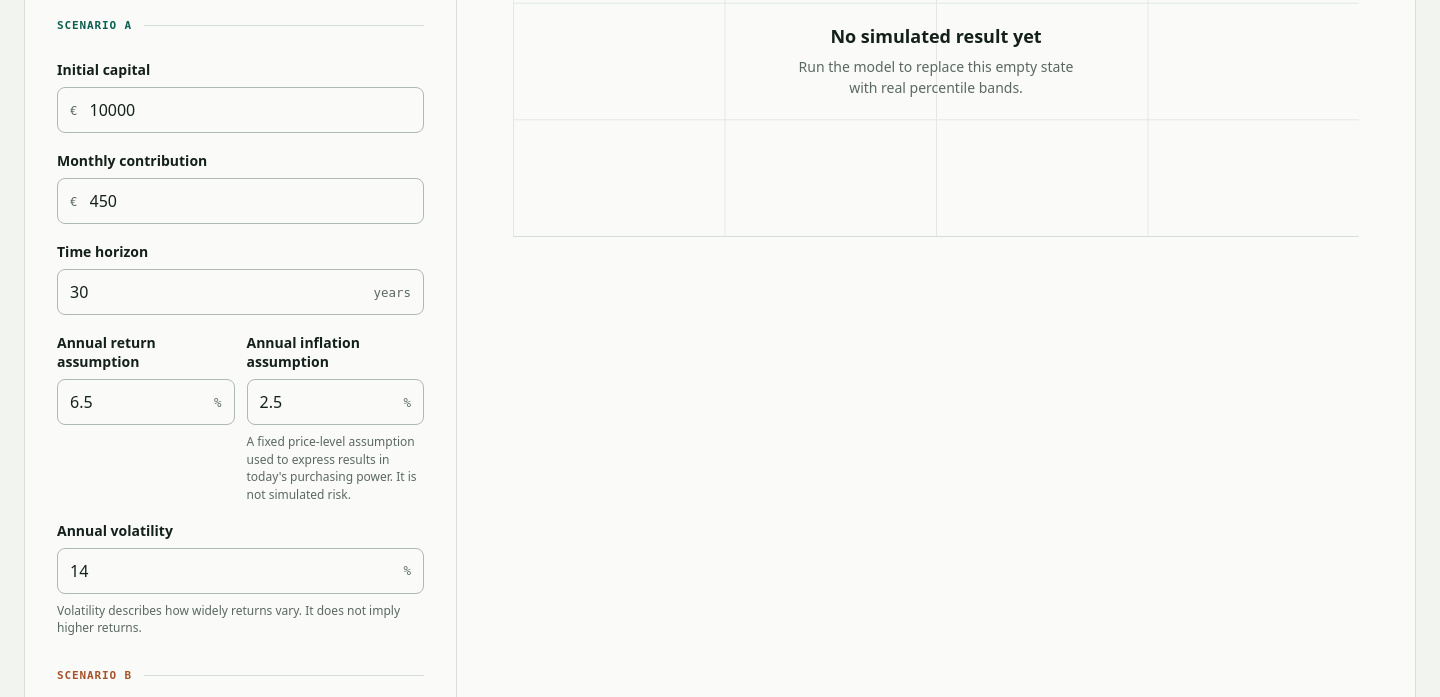
MarketSim simulation workspace › attributes a Scenario B execution failure after Scenario A succeeds
(page scrolled)
Replace the text in the number field labelled "Time horizon" with "1". click: coordinates (210, 292)
box: [58,270,362,314]
(page scrolled)
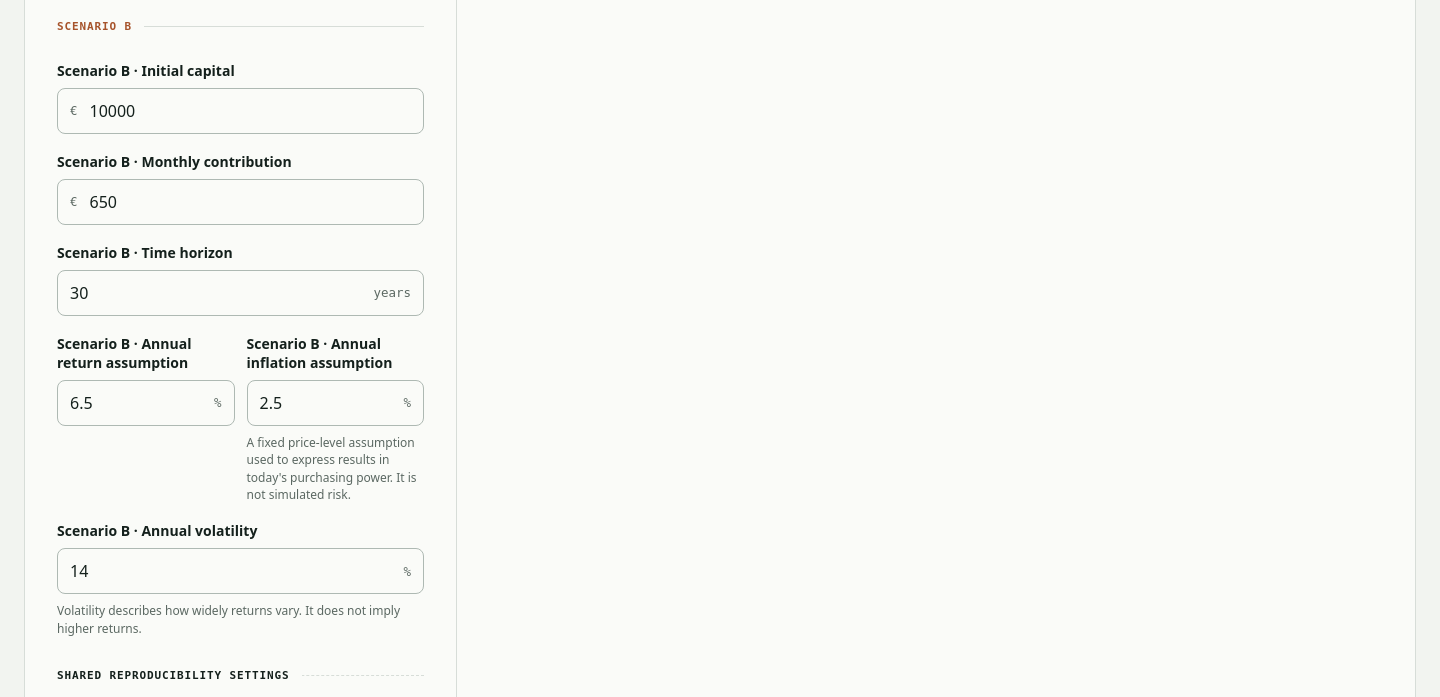
Replace the text in the number field labelled "Scenario B · Time horizon" with "1". click: coordinates (210, 293)
box: [58,271,362,315]
(page scrolled)
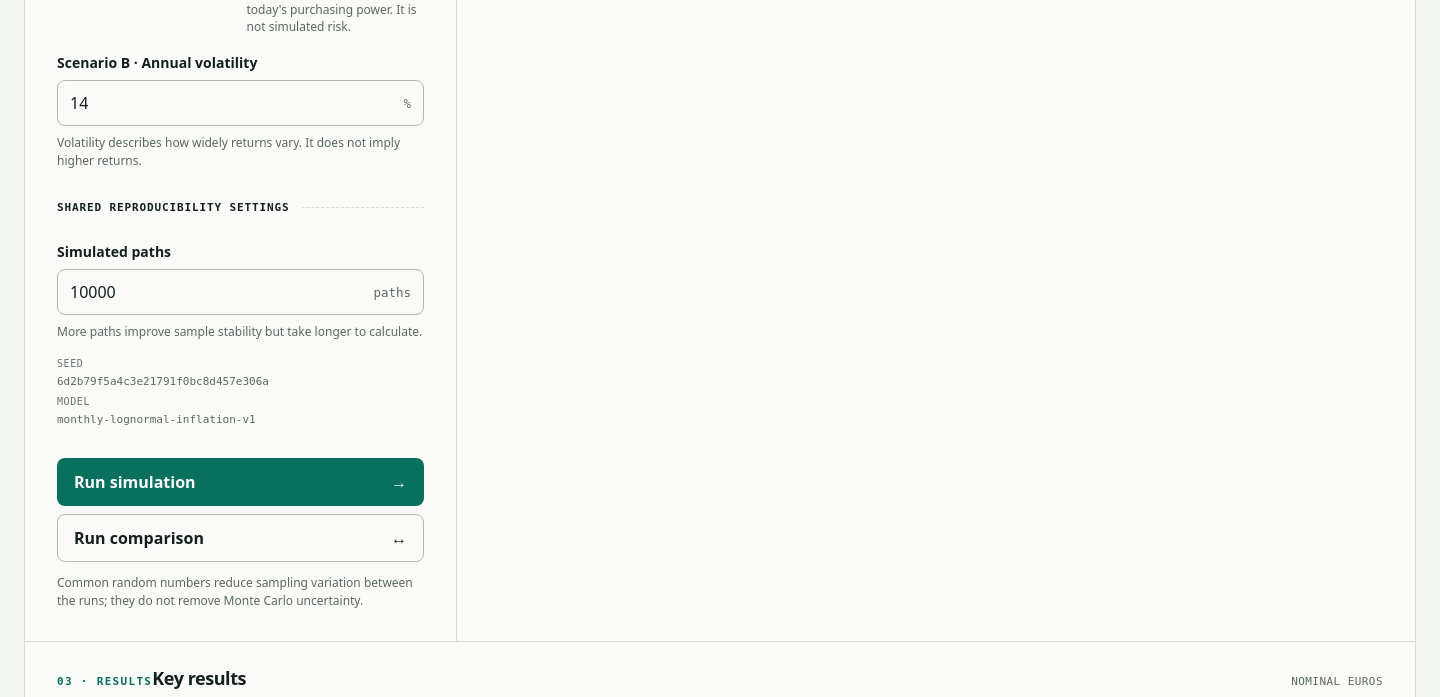
Replace the text in the number field labelled "Simulated paths" with "32". click: coordinates (210, 292)
box: [58,270,362,314]
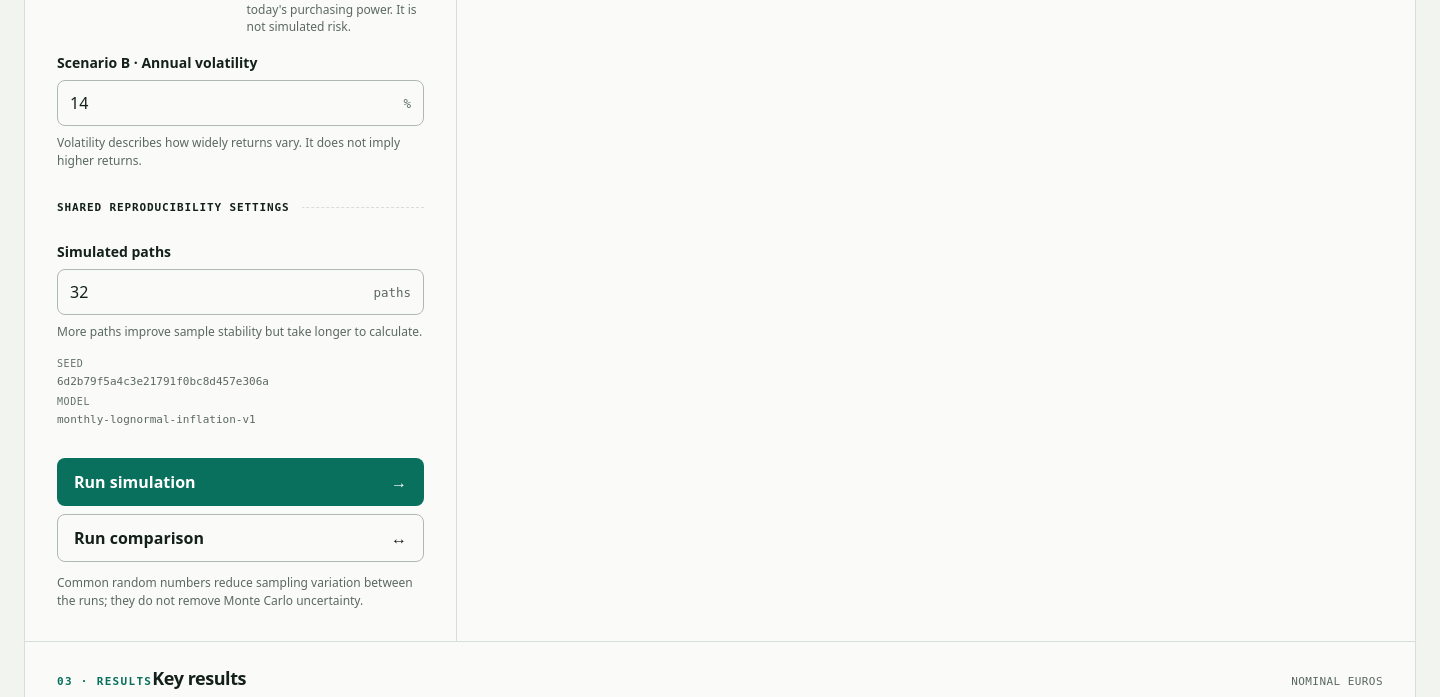
Click the button "Run comparison ↔". click: coordinates (139, 538)
box: [57,514,424,562]
(page scrolled)
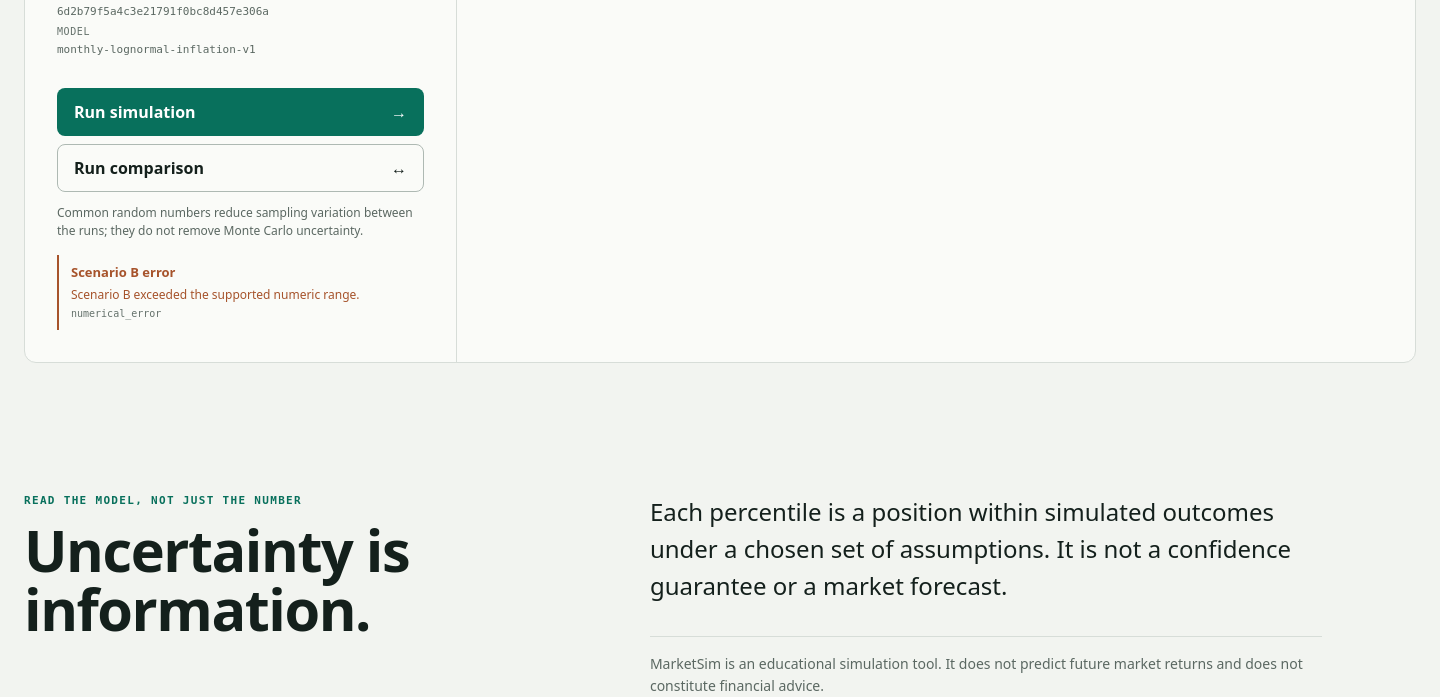
Check: the message shows "Scenario B error", box [71,263,176,281]
